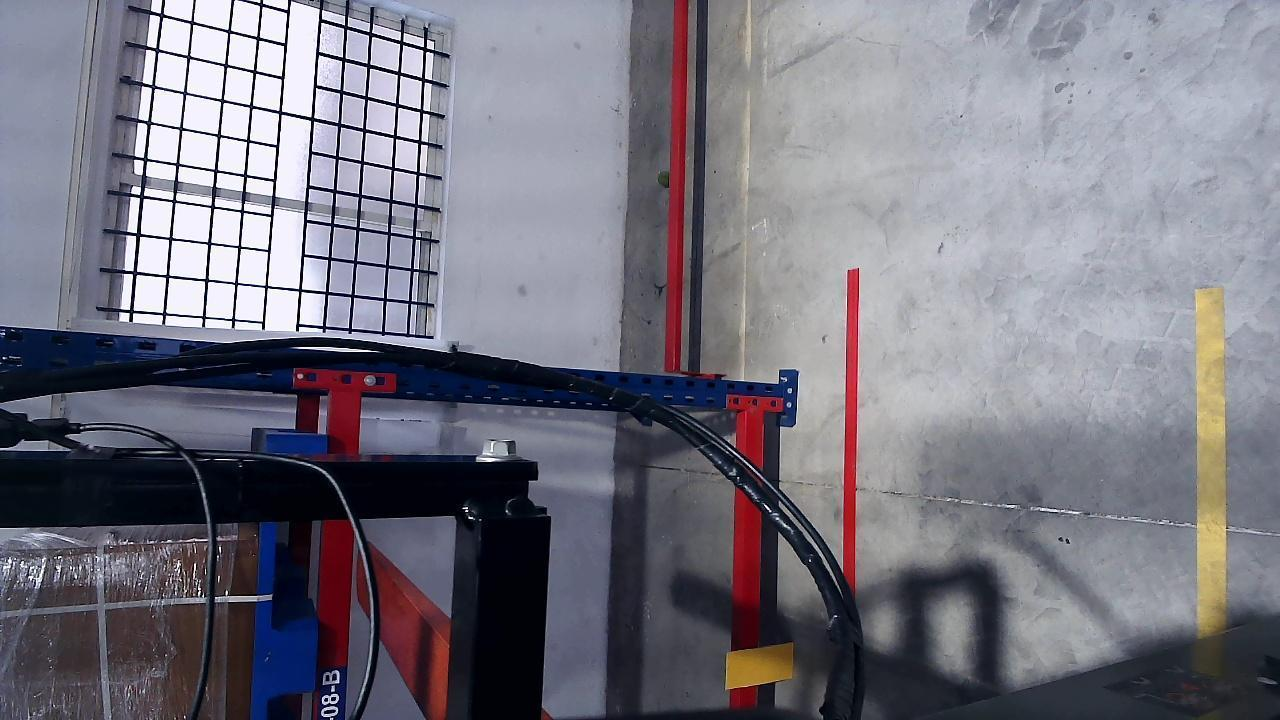red_line: (842, 263, 862, 593)
yellow_line: (1197, 288, 1228, 636)
